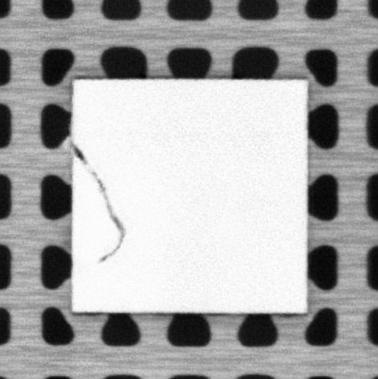DIE_INK: (75, 145, 127, 263)
